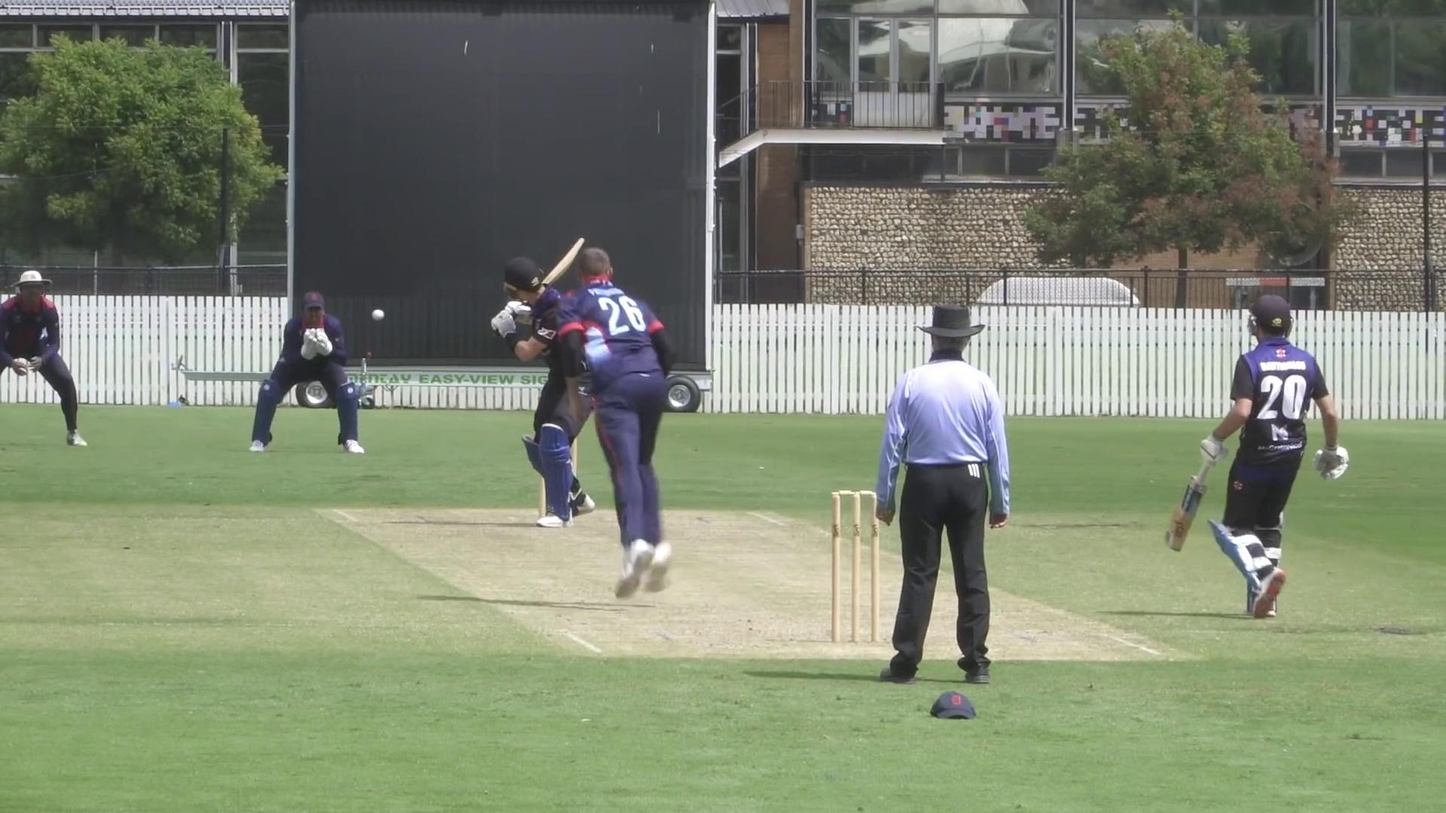ball: (369, 306, 388, 324)
